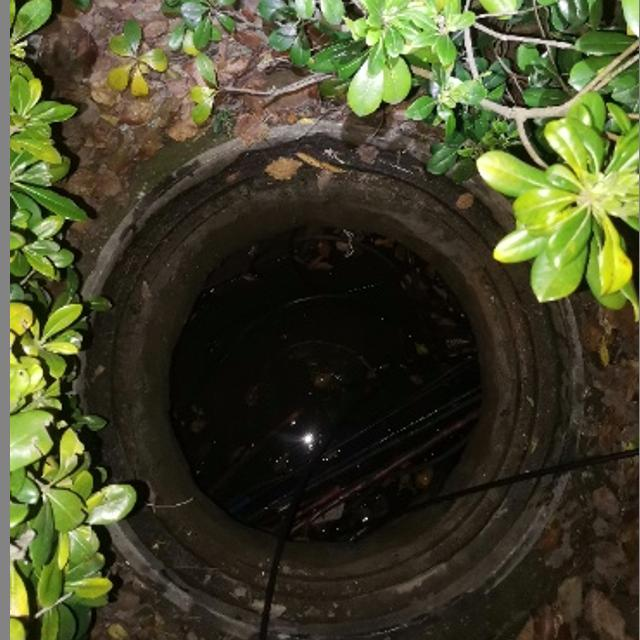lose: (49, 116, 585, 640)
